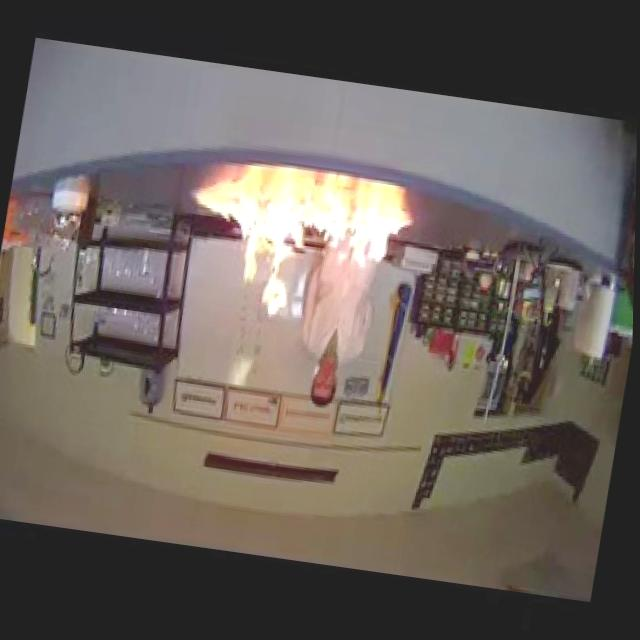helmet: (176, 184, 421, 338)
